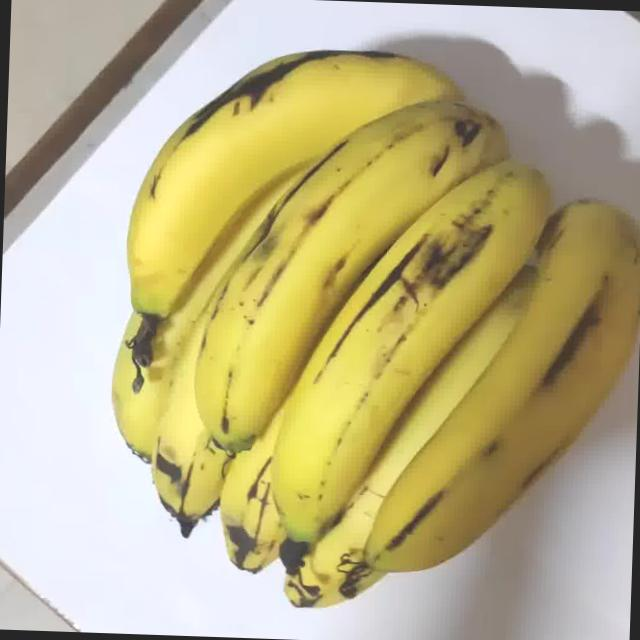banana_pacche: (0, 1, 636, 639)
